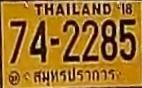2: (62, 19, 78, 62), (82, 19, 98, 61)
4: (29, 19, 46, 62)
5: (119, 18, 135, 60)
7: (10, 20, 26, 63)
8: (100, 19, 116, 60)
SPK: (31, 67, 117, 82)
